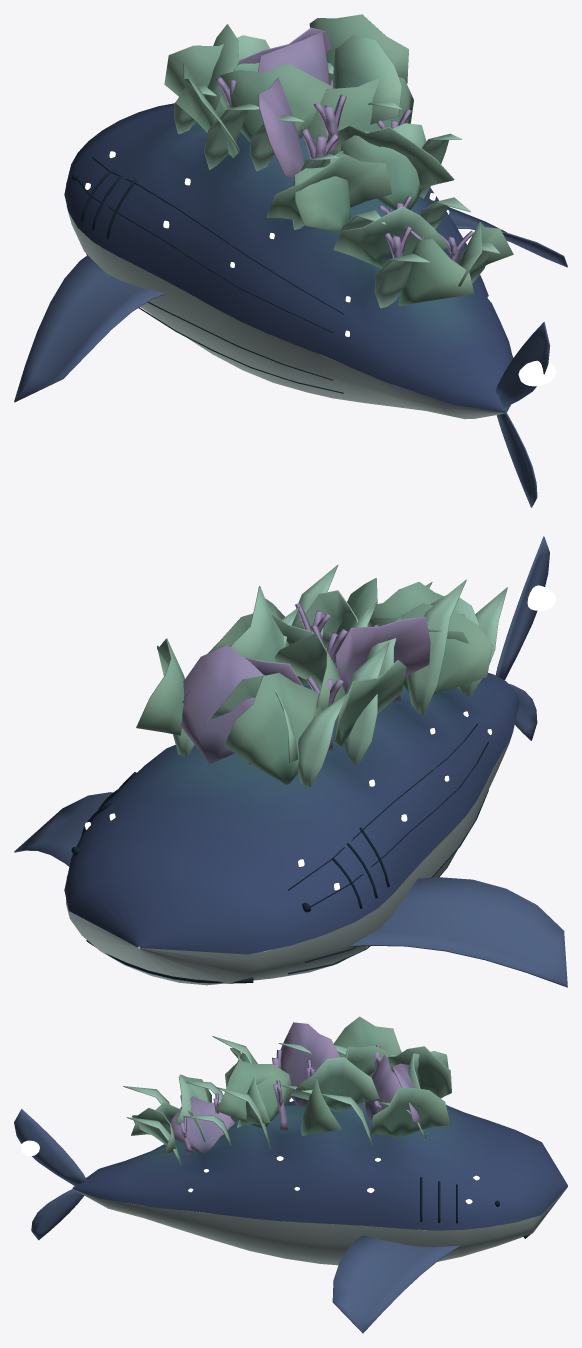
3 views of the same model, one above another, from view 1: azimuth 30°, elevation 25°; view 2: azimuth 150°, elevation 25°; view 3: azimuth 270°, elevation 25° (orthographic). The views are drawn at different scales.
Parts seen in each view (by area): view 1: RIMWARD_HULL, RIMWARD_ENGINE_GLOW; view 2: RIMWARD_HULL, RIMWARD_ENGINE_GLOW; view 3: RIMWARD_HULL.
Part boxes in pixels (left/top/right/bottom): RIMWARD_HULL: left=14, top=14, right=567, bottom=507; RIMWARD_ENGINE_GLOW: left=518, top=360, right=556, bottom=386; RIMWARD_HULL: left=14, top=536, right=567, bottom=987; RIMWARD_ENGINE_GLOW: left=518, top=585, right=555, bottom=610; RIMWARD_HULL: left=14, top=1016, right=567, bottom=1333.
Size of the model in its own units: 66.22 by 36.27 by 85.
